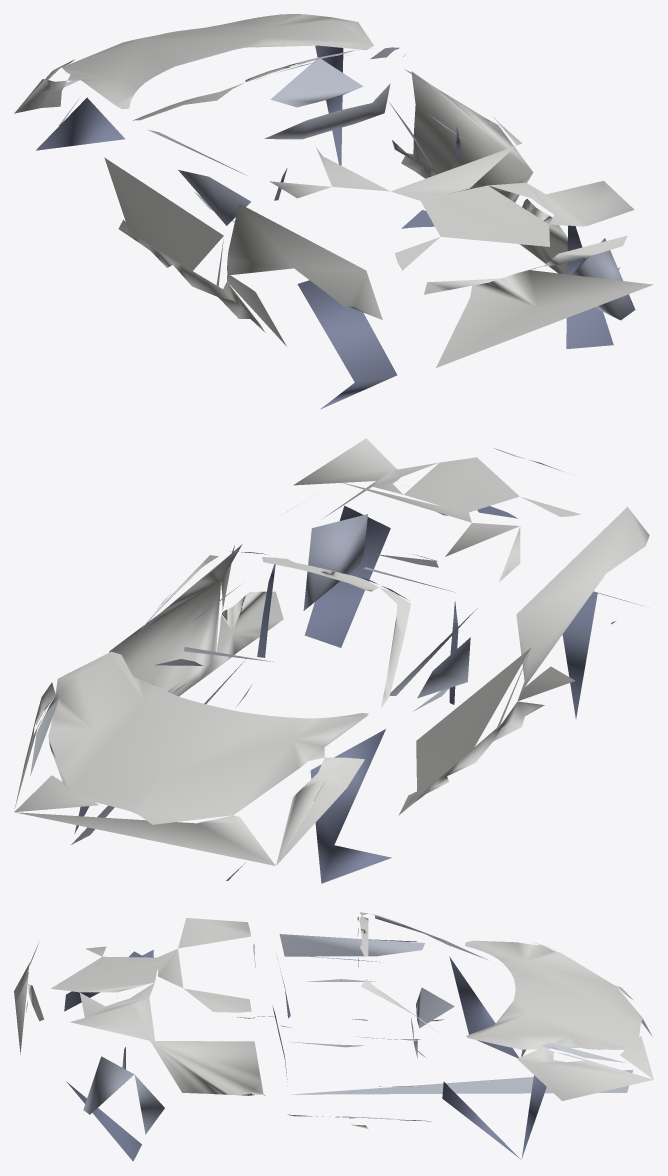
Rendered from coupe-far.glb.
3 renders of one model, top to bottom at view 1: azimuth 30°, elevation 25°; view 2: azimuth 150°, elevation 25°; view 3: azimuth 270°, elevation 25°, orthographic. The views are drawn at different scales.
Visible parts, largest first — view 1: chassis, door; view 2: chassis, door, chassis_glass; view 3: chassis, door, chassis_glass.
Boxes of the visible parts, bbox=[...] form: chassis: bbox=[14, 14, 653, 409]; door: bbox=[104, 129, 287, 286]; chassis: bbox=[14, 438, 649, 883]; door: bbox=[390, 601, 531, 796]; chassis_glass: bbox=[30, 554, 438, 776]; chassis: bbox=[14, 912, 653, 1161]; door: bbox=[277, 934, 424, 1018]; chassis_glass: bbox=[254, 944, 625, 1062].
Bounding box in the file's own units: 1.96 × 1.34 × 4.49.
